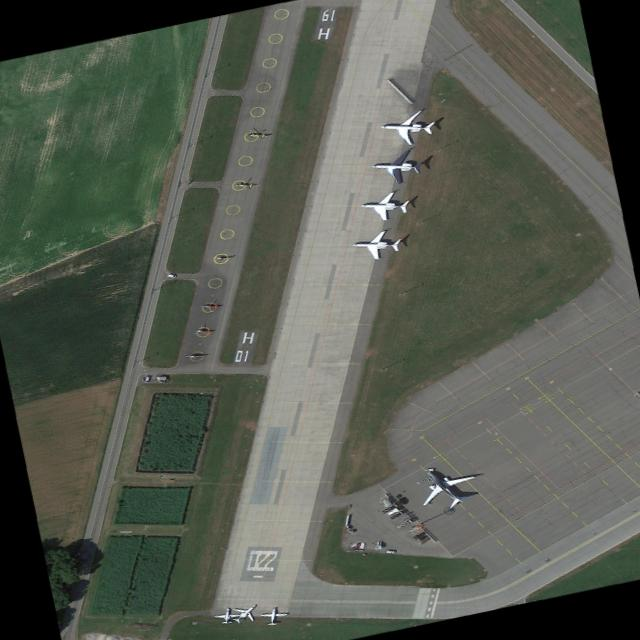large-vehicle: (156, 376, 166, 380)
plane: (398, 452, 494, 524), (375, 110, 439, 147), (366, 148, 428, 185), (356, 190, 412, 222), (348, 230, 405, 261), (224, 597, 267, 628), (258, 605, 288, 627), (214, 606, 241, 625)
small-vehicle: (166, 273, 178, 279), (145, 375, 151, 383), (385, 550, 396, 553)
